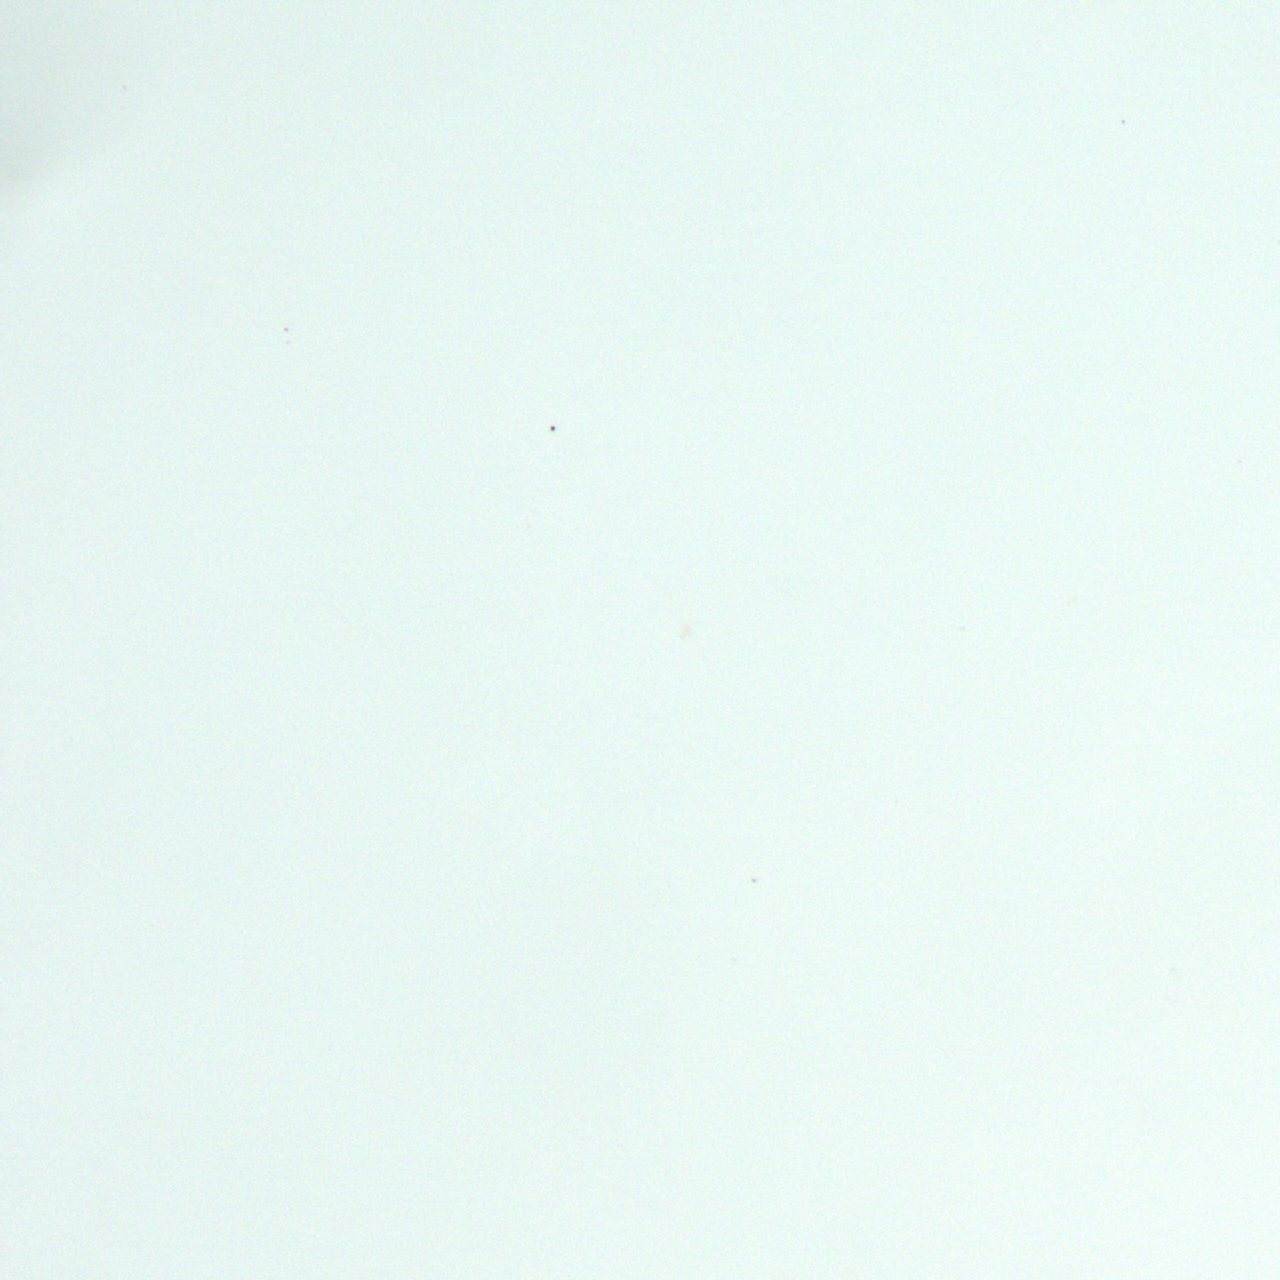dust: (549, 425, 554, 430), (284, 326, 288, 331), (1121, 119, 1125, 123)
